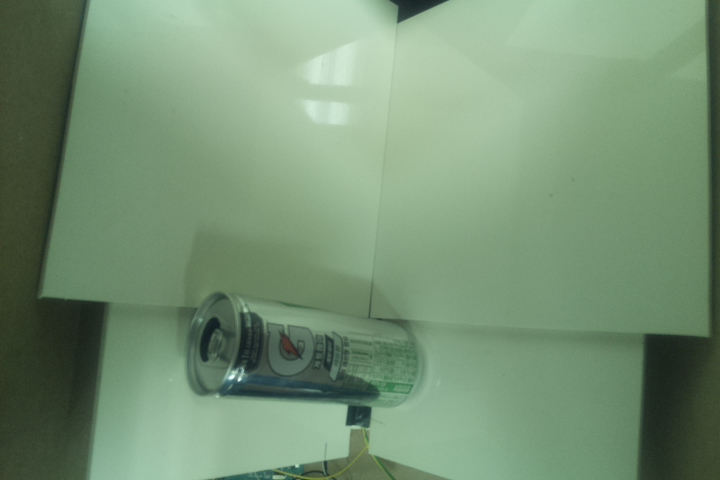can: (182, 288, 428, 411)
